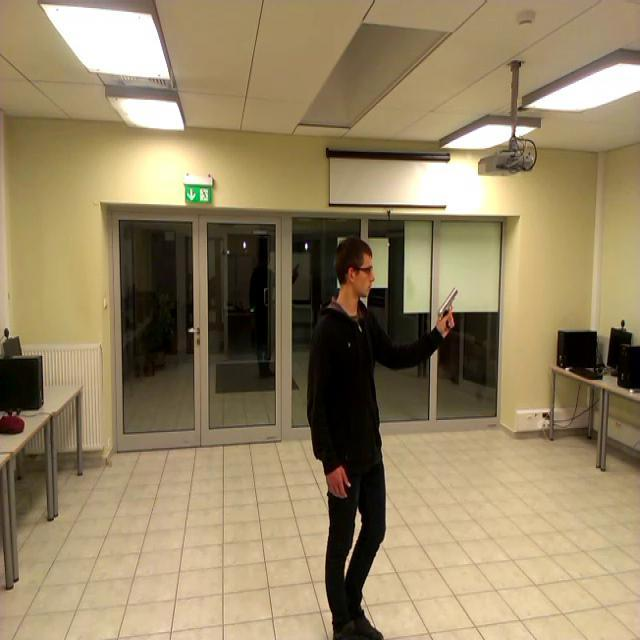Gun: (439, 286, 459, 330)
